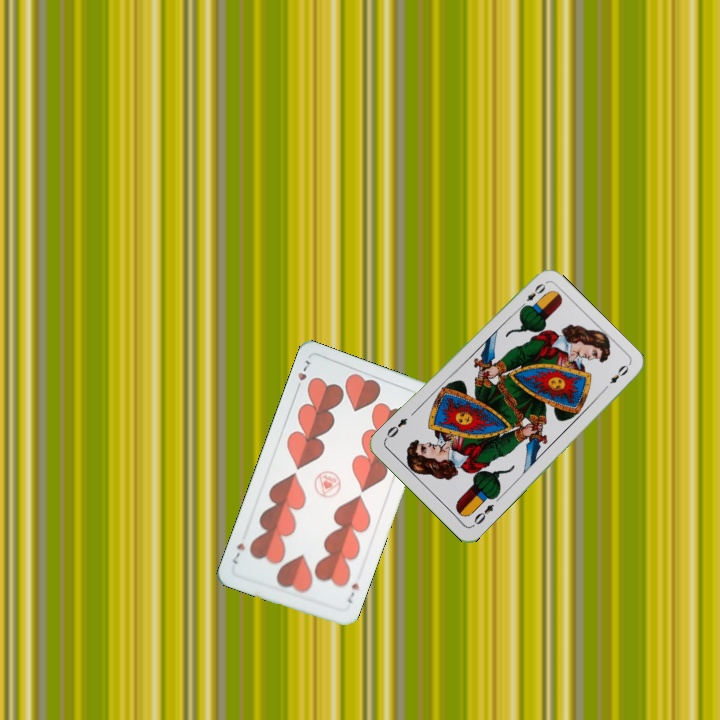EO: (516, 279, 548, 312), (468, 500, 497, 529)
H7: (292, 356, 312, 394), (343, 579, 362, 606)
